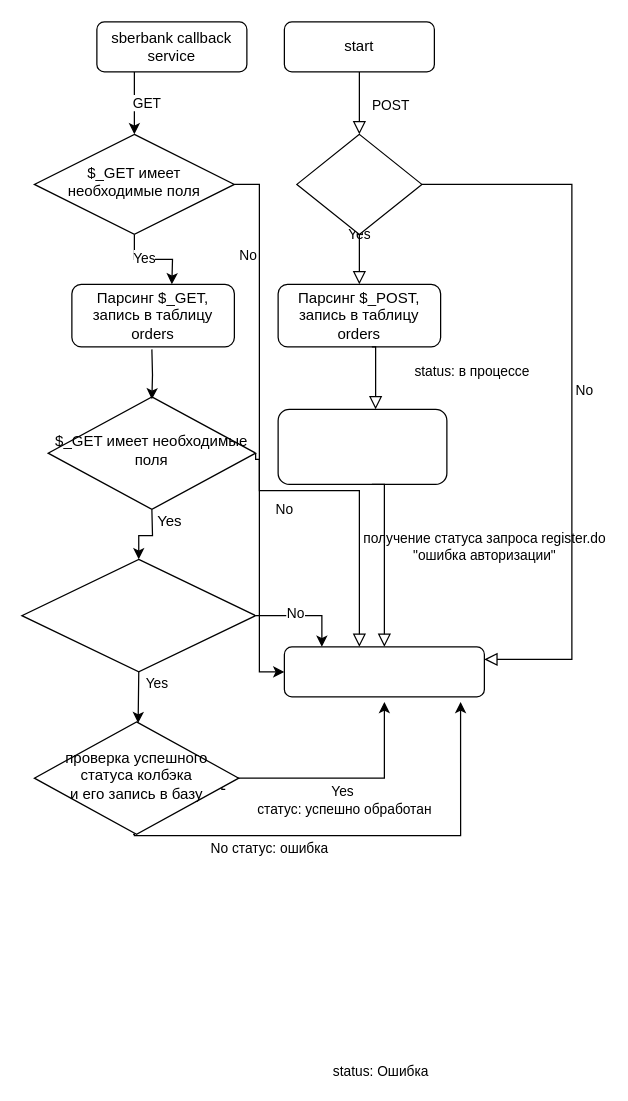
Image size: 628x1101. Some labels were removed from this diagram. Each missing label, with the centre of its shape:
end: (x=383, y=671)
не пустой $_POST: (x=359, y=183)
Отправка через API сбербанк register.do запроса на оплату: (x=362, y=446)
хэш сумма колбэка и локальная совпадают: (x=138, y=615)
